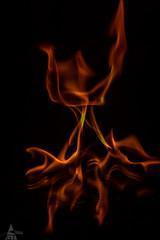fire: (0, 0, 158, 232)
